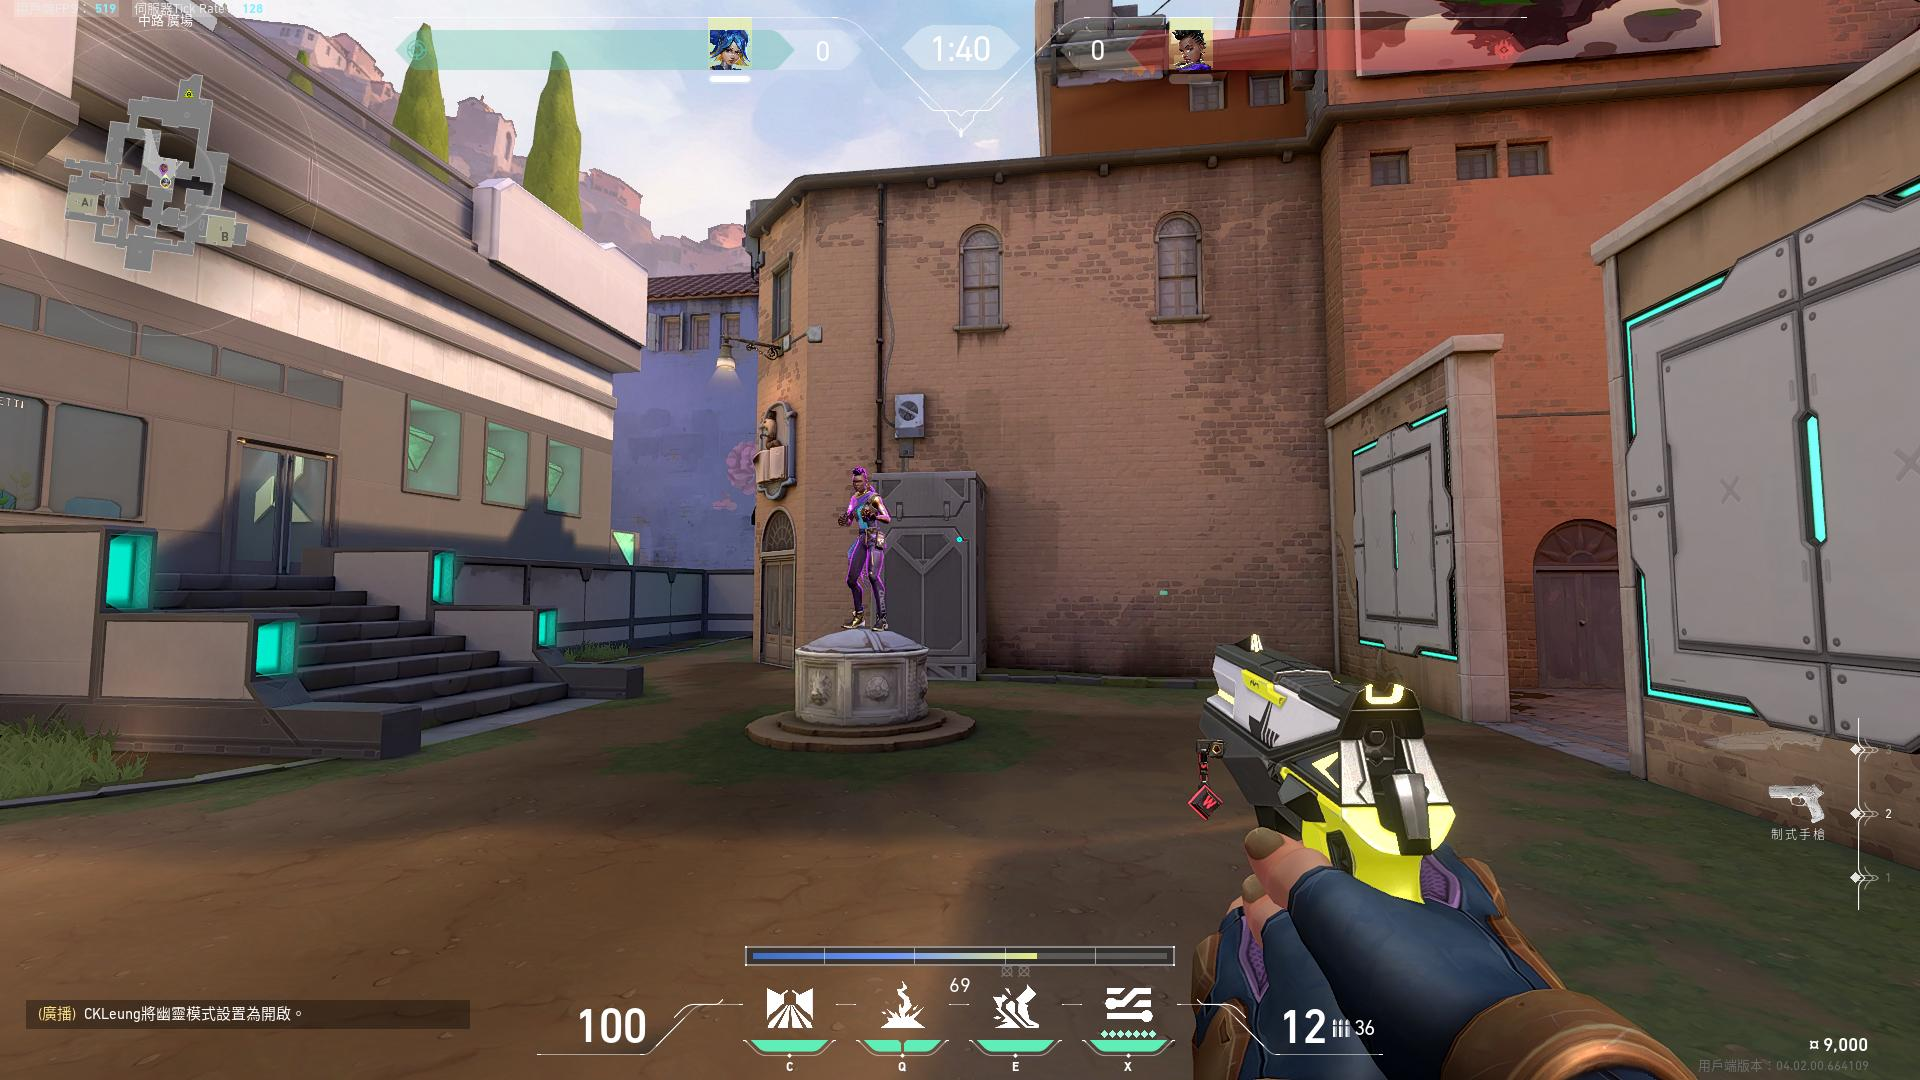enemyBody: (855, 496, 876, 527)
enemyHead: (851, 469, 866, 488)
